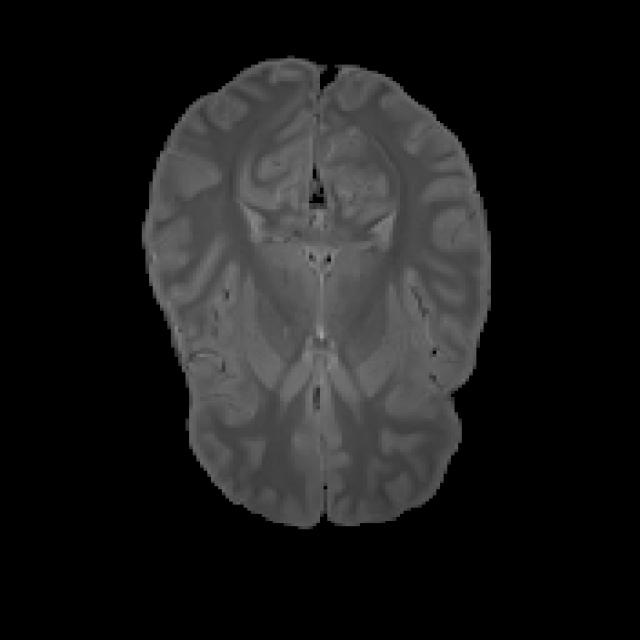CONTROL: (138, 56, 491, 530)
